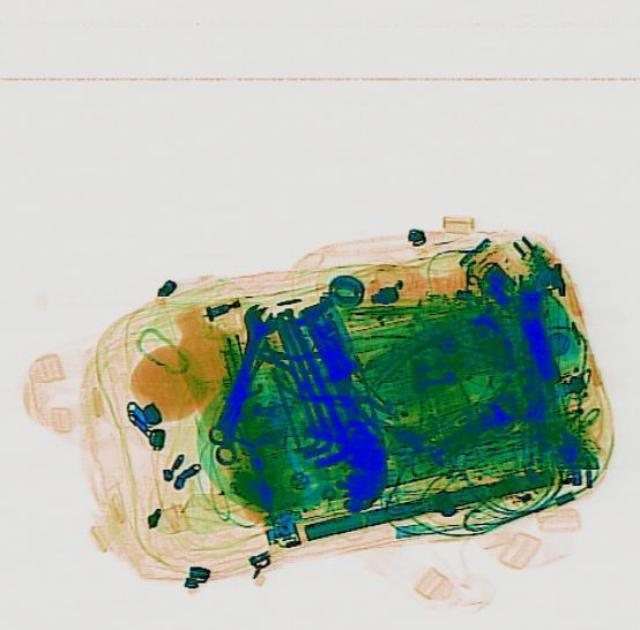Wrench: (199, 302, 281, 466), (196, 300, 276, 444)
